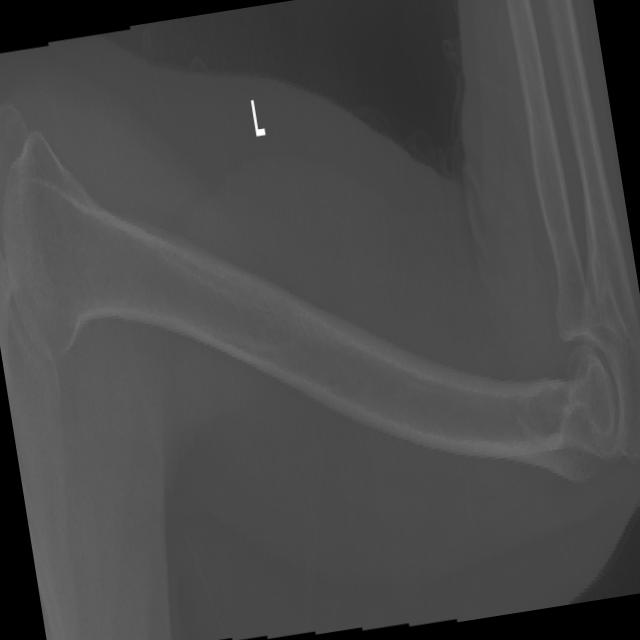humerus fracture: (505, 396, 621, 538)
